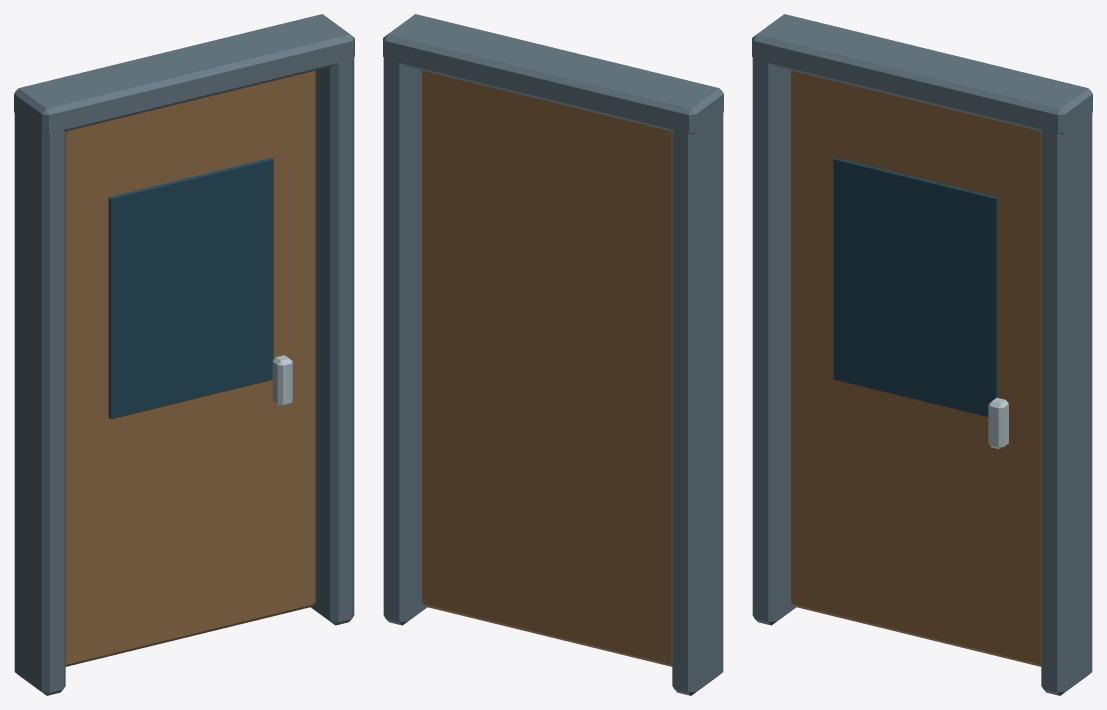
The model's file is architecture-door-sliding.lod0.glb.
3 renders of one model, left to right at view 1: azimuth 30°, elevation 25°; view 2: azimuth 150°, elevation 25°; view 3: azimuth 330°, elevation 25°, orthographic.
Visible parts, largest first — view 1: architecture-door-sliding__door, architecture-door-sliding__body; view 2: architecture-door-sliding__door, architecture-door-sliding__body; view 3: architecture-door-sliding__door, architecture-door-sliding__body.
Boxes of the visible parts, <box> form: architecture-door-sliding__door: <box>65,70,315,666</box>; architecture-door-sliding__body: <box>14,14,354,695</box>; architecture-door-sliding__door: <box>422,70,672,666</box>; architecture-door-sliding__body: <box>383,14,723,695</box>; architecture-door-sliding__door: <box>791,70,1041,666</box>; architecture-door-sliding__body: <box>752,14,1092,695</box>.
Size of the model in its own units: 1.42 by 2.55 by 0.26.
